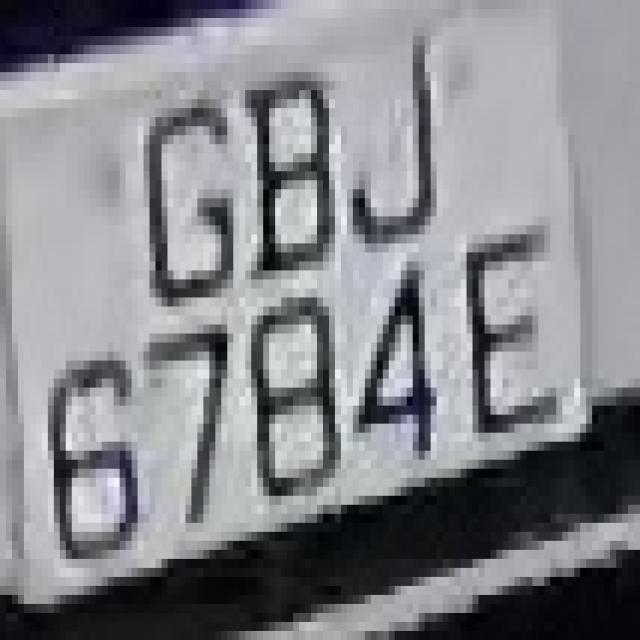4: (335, 270, 437, 514)
6: (48, 306, 149, 595)
7: (156, 297, 233, 559)
8: (227, 270, 341, 514)
B: (239, 54, 347, 289)
E: (443, 198, 568, 469)
G: (120, 54, 239, 352)
J: (359, 27, 454, 270)
